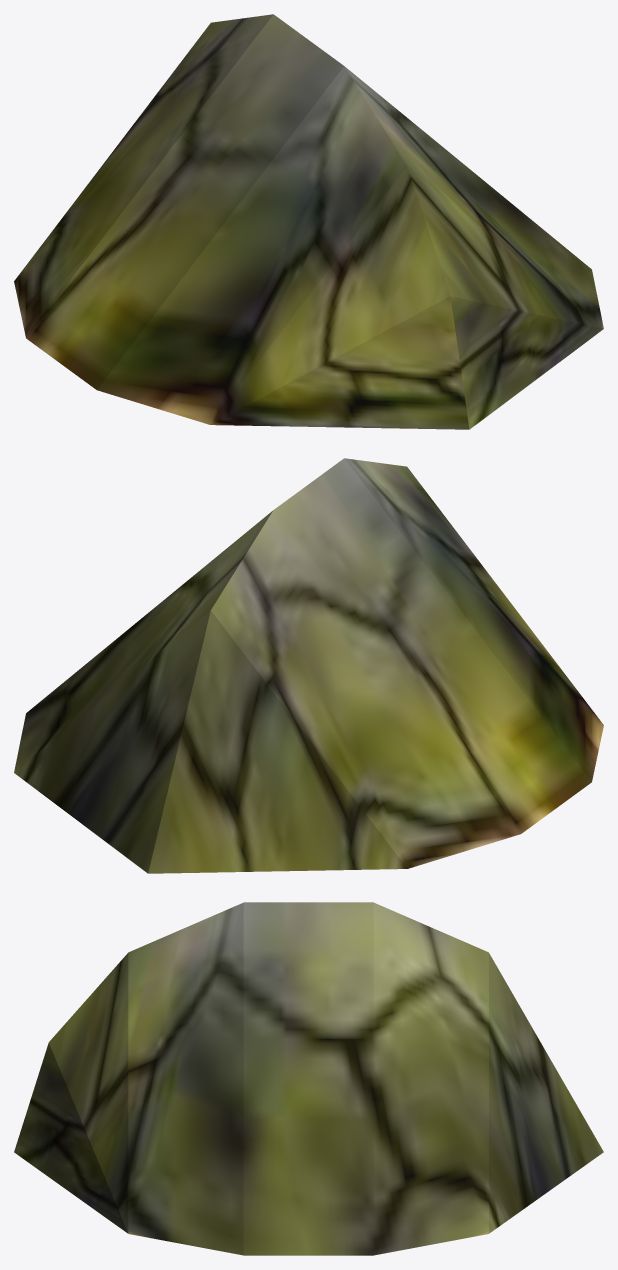
File: critters__tutleshell.glb
3 renders of one model, top to bottom at view 1: azimuth 30°, elevation 25°; view 2: azimuth 150°, elevation 25°; view 3: azimuth 270°, elevation 25°, orthographic. The views are drawn at different scales.
Visible parts, largest first — view 1: col-1; view 2: col-1; view 3: col-1.
Boxes of the visible parts, x1,y1,x2,y2 form: col-1: (14, 14, 603, 429); col-1: (14, 458, 603, 873); col-1: (14, 902, 603, 1255).
Size of the model in its own units: 8.77 by 4.61 by 9.86.
Materials: 1 (1 with a texture image).
